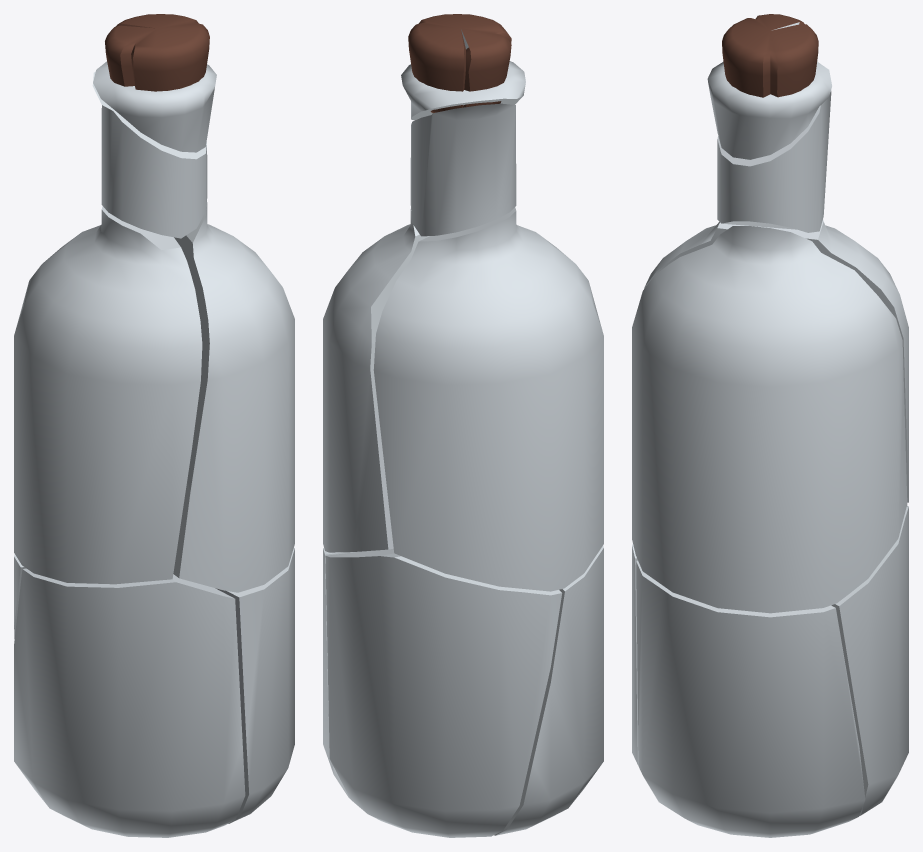
File: MOD_BottleTest.fbx
3 renders of one model, left to right at view 1: azimuth 30°, elevation 25°; view 2: azimuth 150°, elevation 25°; view 3: azimuth 270°, elevation 25°, orthographic.
Parts seen in each view (by area): view 1: MOD_Bottle.001_cell.031; view 2: MOD_Bottle.001_cell.031; view 3: MOD_Bottle.001_cell.031.
Boxes of the visible parts, box(x1,y1,x2,y2) form: MOD_Bottle.001_cell.031: box(14, 14, 294, 837); MOD_Bottle.001_cell.031: box(323, 14, 603, 837); MOD_Bottle.001_cell.031: box(632, 14, 908, 837).
Size of the model in its own units: 11.39 by 34.11 by 11.19.
